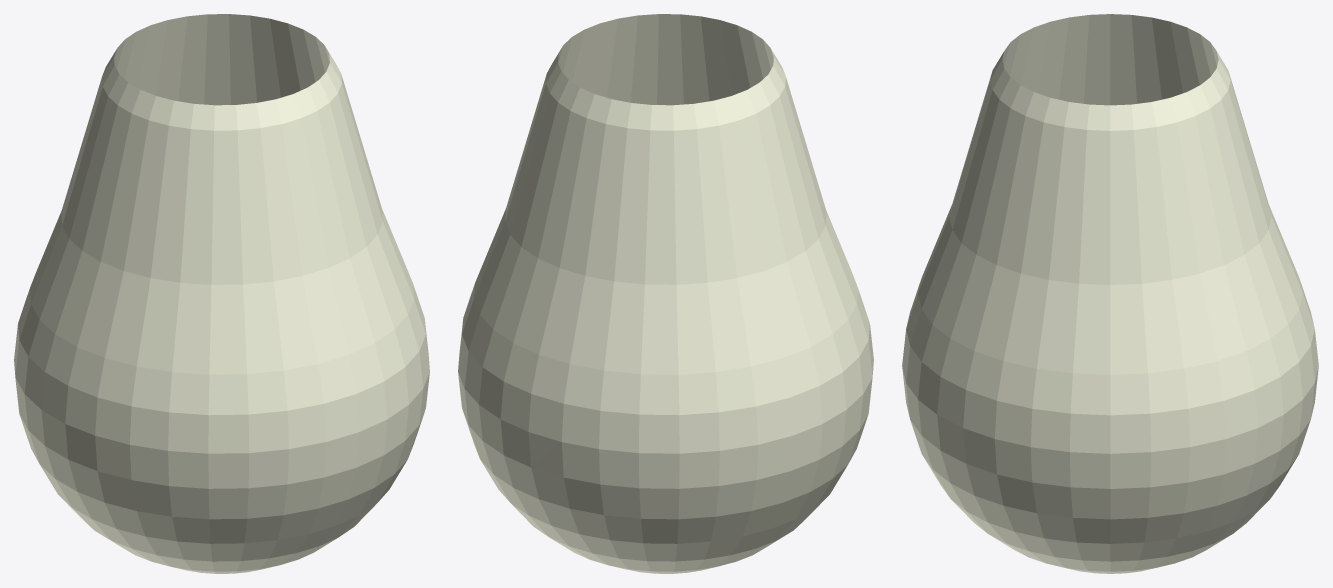
File: bulb.obj
3 renders of one model, left to right at view 1: azimuth 30°, elevation 25°; view 2: azimuth 150°, elevation 25°; view 3: azimuth 270°, elevation 25°, orthographic.
Visible parts, largest first — view 1: Sphere_Sphere.002; view 2: Sphere_Sphere.002; view 3: Sphere_Sphere.002.
Part boxes in pixels (bbox=[...]): Sphere_Sphere.002: bbox=[14, 14, 429, 573]; Sphere_Sphere.002: bbox=[458, 14, 873, 573]; Sphere_Sphere.002: bbox=[902, 14, 1318, 573].
Size of the model in its own units: 0.05 by 0.0655 by 0.05.
1 material, 1 textured.
